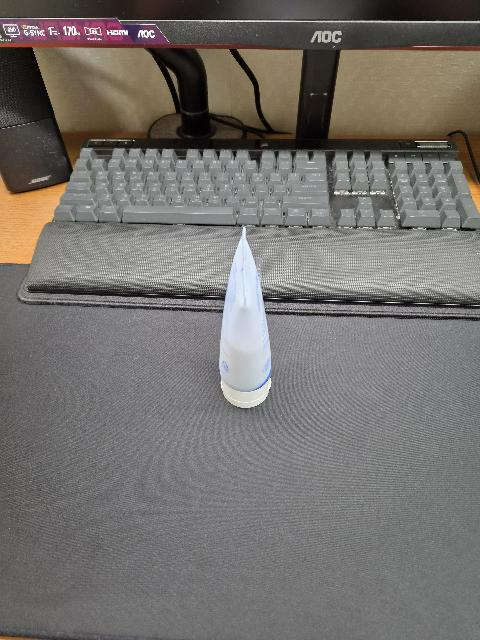handcream: (219, 227, 272, 408)
